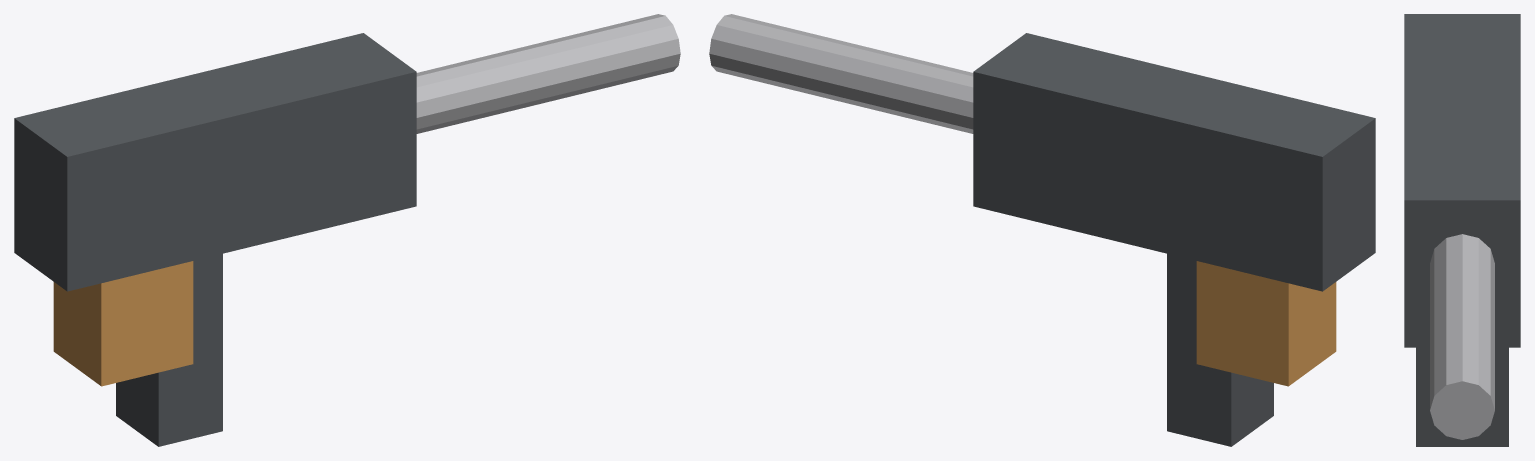
File: smg.glb
3 views of the same model, side by side, from view 1: azimuth 30°, elevation 25°; view 2: azimuth 150°, elevation 25°; view 3: azimuth 270°, elevation 25° (orthographic). The views are drawn at different scales.
Parts seen in each view (by area): view 1: smg; view 2: smg; view 3: smg.
Part boxes in pixels (left/top/right/bottom): smg: left=14, top=14, right=680, bottom=446; smg: left=709, top=14, right=1375, bottom=446; smg: left=1404, top=14, right=1520, bottom=446.
Bounding box in the file's own units: 0.68 × 0.33 × 0.1.
